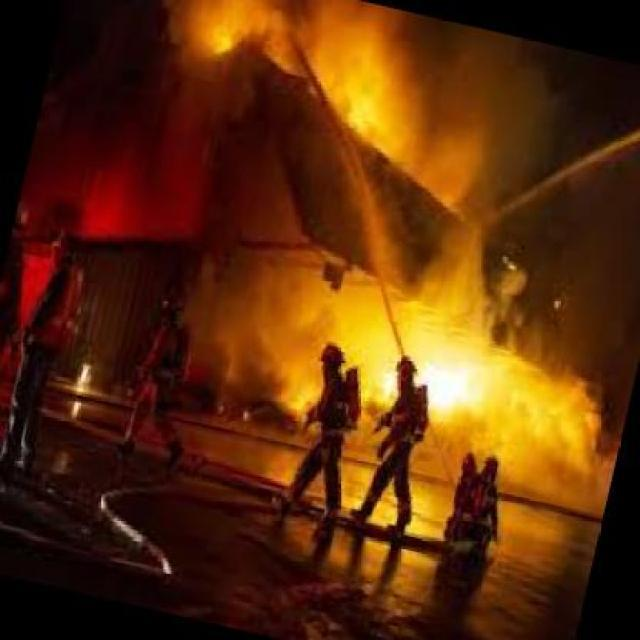Fire: (382, 325, 491, 414), (334, 92, 382, 140), (214, 22, 247, 68)
Smoke: (390, 23, 558, 199), (200, 272, 347, 431), (491, 358, 612, 514), (393, 220, 528, 314), (259, 0, 388, 86), (163, 5, 208, 76)
